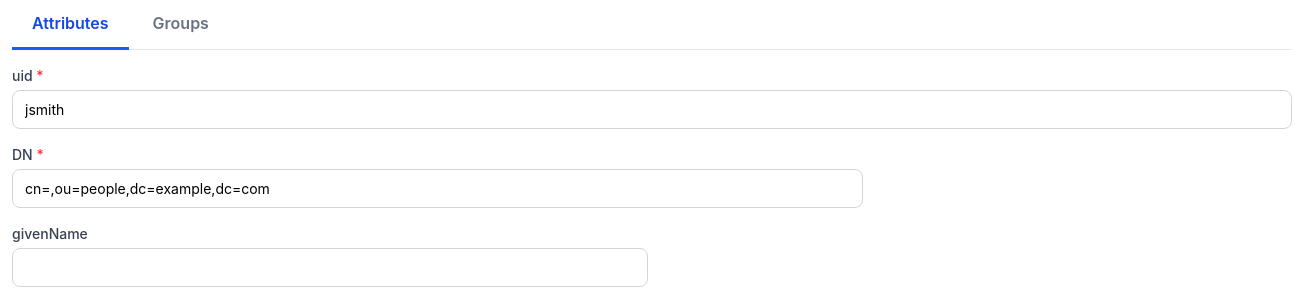
UserForm editable DN (create mode) › reflects a COMPUTED attribute and reacts to its source field
Type "John" into the field labelled "givenName" at (330, 268), box [12,248,648,287]
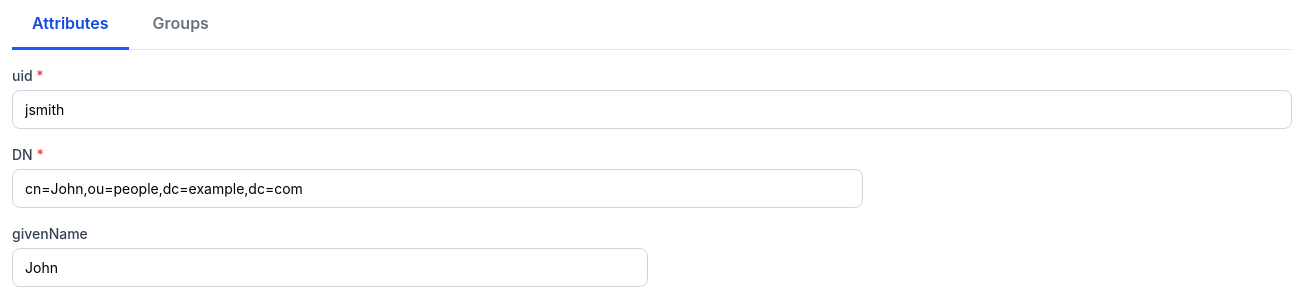
Expected: the field labelled "DN *" holds "cn=John,ou=people,dc=example,dc=com", [12,169,863,208]
